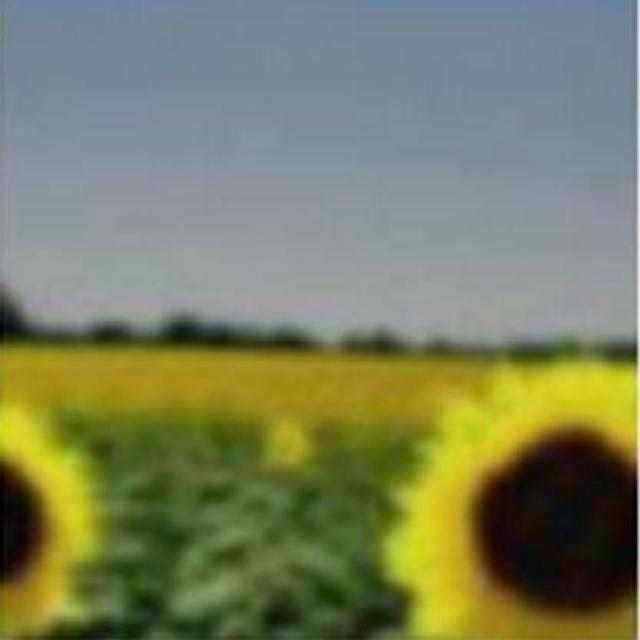sunflower: (381, 361, 640, 640), (0, 401, 95, 640)
